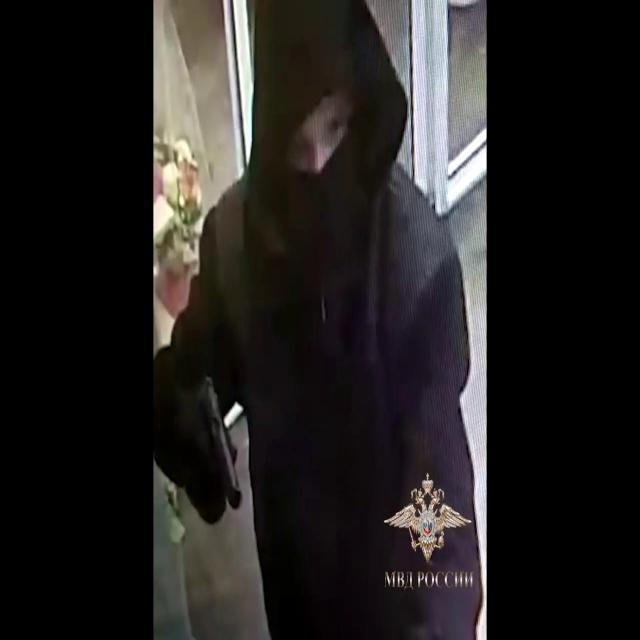pistol: (182, 369, 246, 532)
